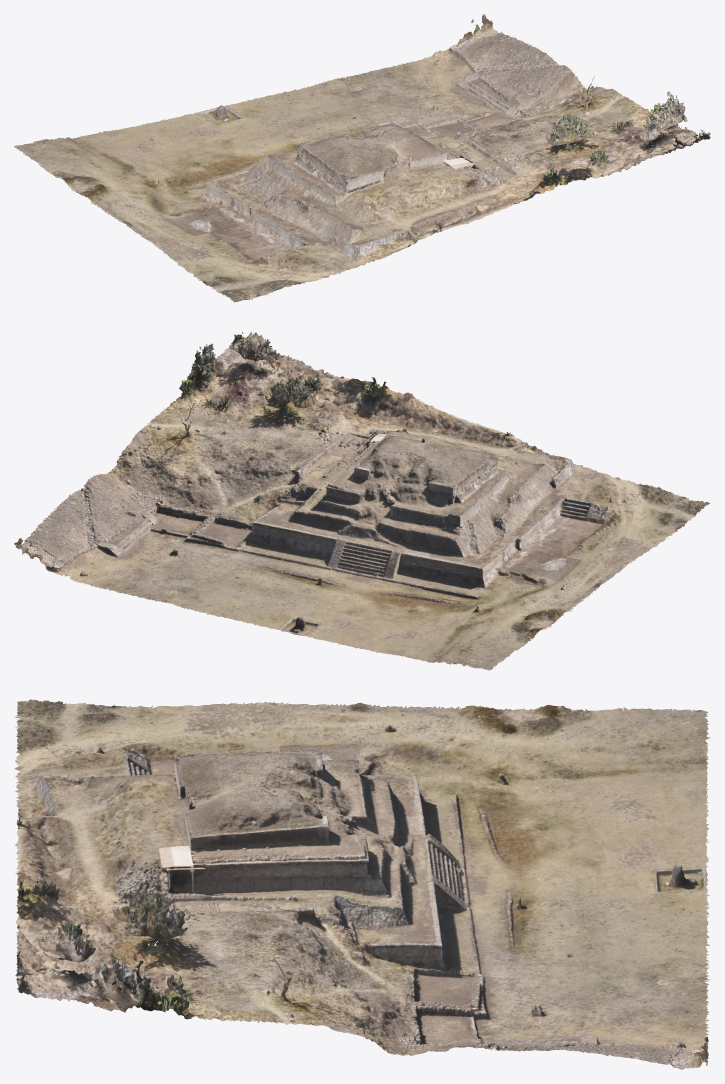
Rendered from huapalcalco.glb.
3 renders of one model, top to bottom at view 1: azimuth 30°, elevation 25°; view 2: azimuth 150°, elevation 25°; view 3: azimuth 270°, elevation 25°, orthographic. The views are drawn at different scales.
Parts seen in each view (by area): view 1: Modelo200k; view 2: Modelo200k; view 3: Modelo200k.
Part boxes in pixels (box(x1,y1,x2,y2)): Modelo200k: box(14, 14, 710, 302); Modelo200k: box(14, 331, 710, 670); Modelo200k: box(14, 699, 710, 1069).
Bounding box in the file's own units: 16.65 × 3.01 × 13.36.
Materials: 1 (1 with a texture image).
